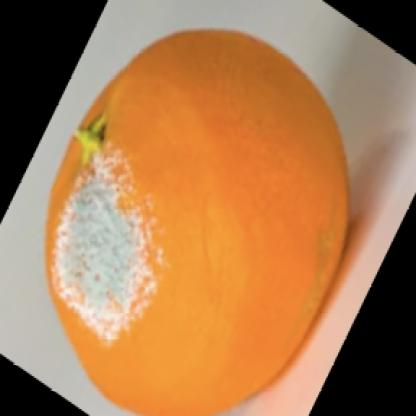rotten: (46, 30, 350, 416)
